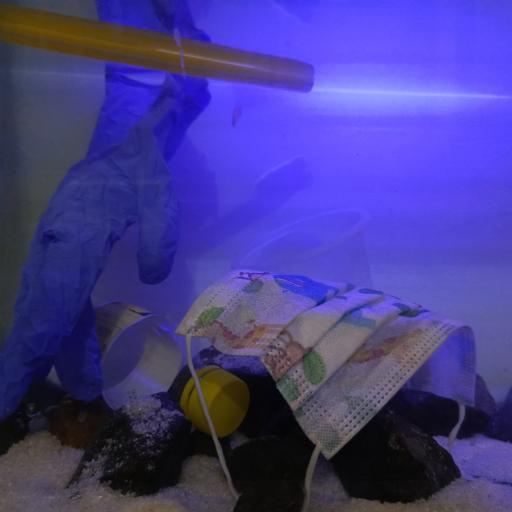bottle_cap: (193, 369, 251, 436)
glove: (0, 64, 211, 420)
mask: (175, 268, 476, 469)
plastic_bottle: (87, 289, 250, 438)
plastic_cup: (236, 206, 372, 286)
plastic_straw: (0, 16, 317, 92)
